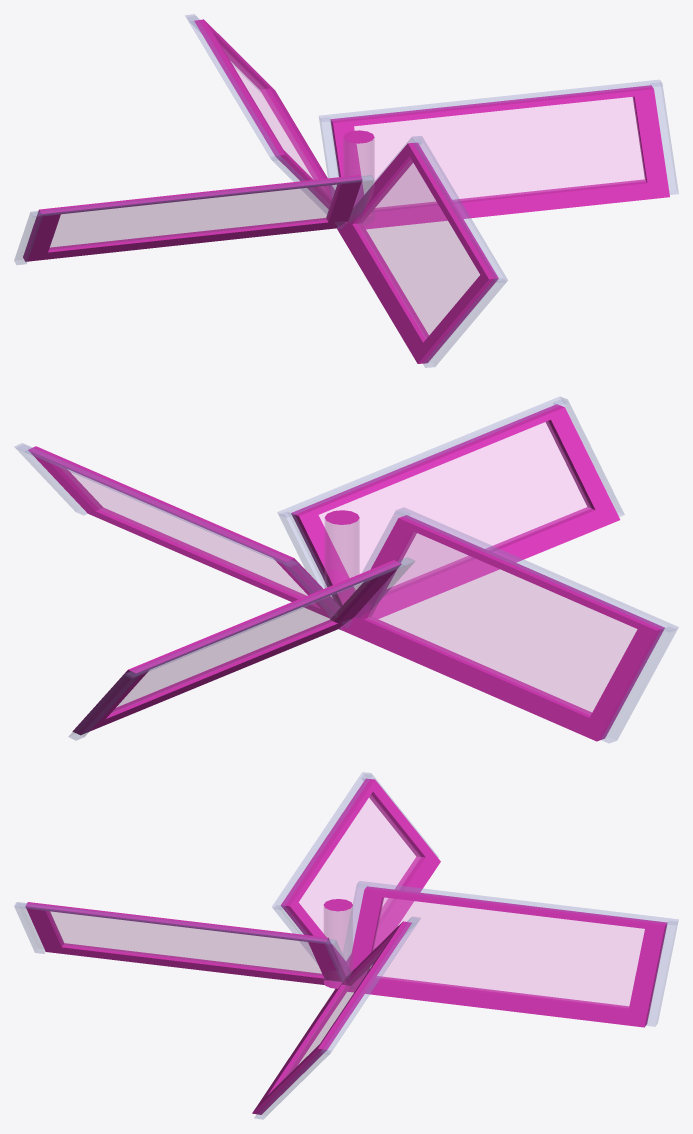
Rendered from propeller.FBX.
3 renders of one model, top to bottom at view 1: azimuth 30°, elevation 25°; view 2: azimuth 150°, elevation 25°; view 3: azimuth 270°, elevation 25°, orthographic. The views are drawn at different scales.
Visible parts, largest first — view 1: door04, door03, door02, door01, door_hub; view 2: door02, door03, door01, door04, door_hub; view 3: door01, door03, door02, door04, door_hub.
Part boxes in pixels (x1,y1,x2,y2): door04: (319, 80, 678, 229); door03: (336, 136, 507, 367); door02: (14, 175, 373, 264); door01: (185, 14, 345, 228); door_hub: (343, 130, 374, 225); door02: (339, 507, 678, 743); door03: (277, 396, 624, 630); door01: (68, 557, 414, 740); door04: (14, 443, 351, 627); door_hub: (324, 510, 359, 615); door01: (343, 881, 678, 1027); door03: (14, 902, 351, 984); door02: (272, 772, 440, 981); door04: (252, 916, 420, 1119); door_hub: (323, 899, 352, 988).
Bounding box in the file's own units: 244 × 244 × 35.17.
